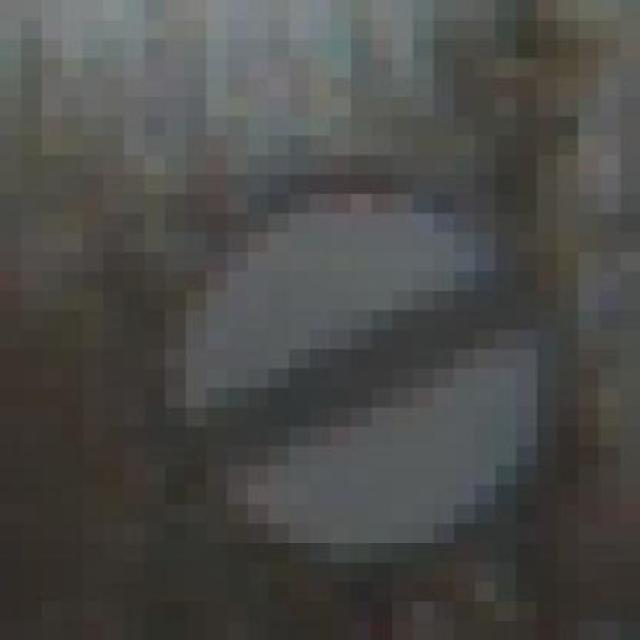End of all speed and passing limits: (147, 156, 581, 564)
